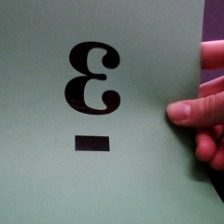green3: (58, 37, 129, 159)
